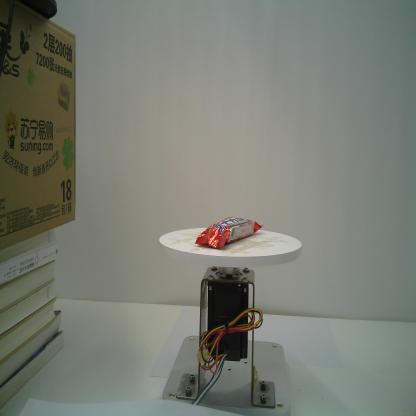Chocolate: (195, 217, 264, 248)
